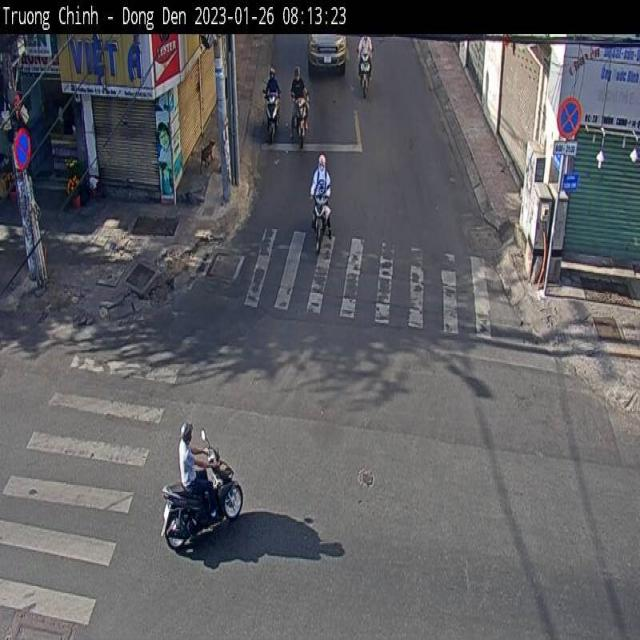with_helmet: (178, 404, 202, 442), (316, 143, 334, 180)
